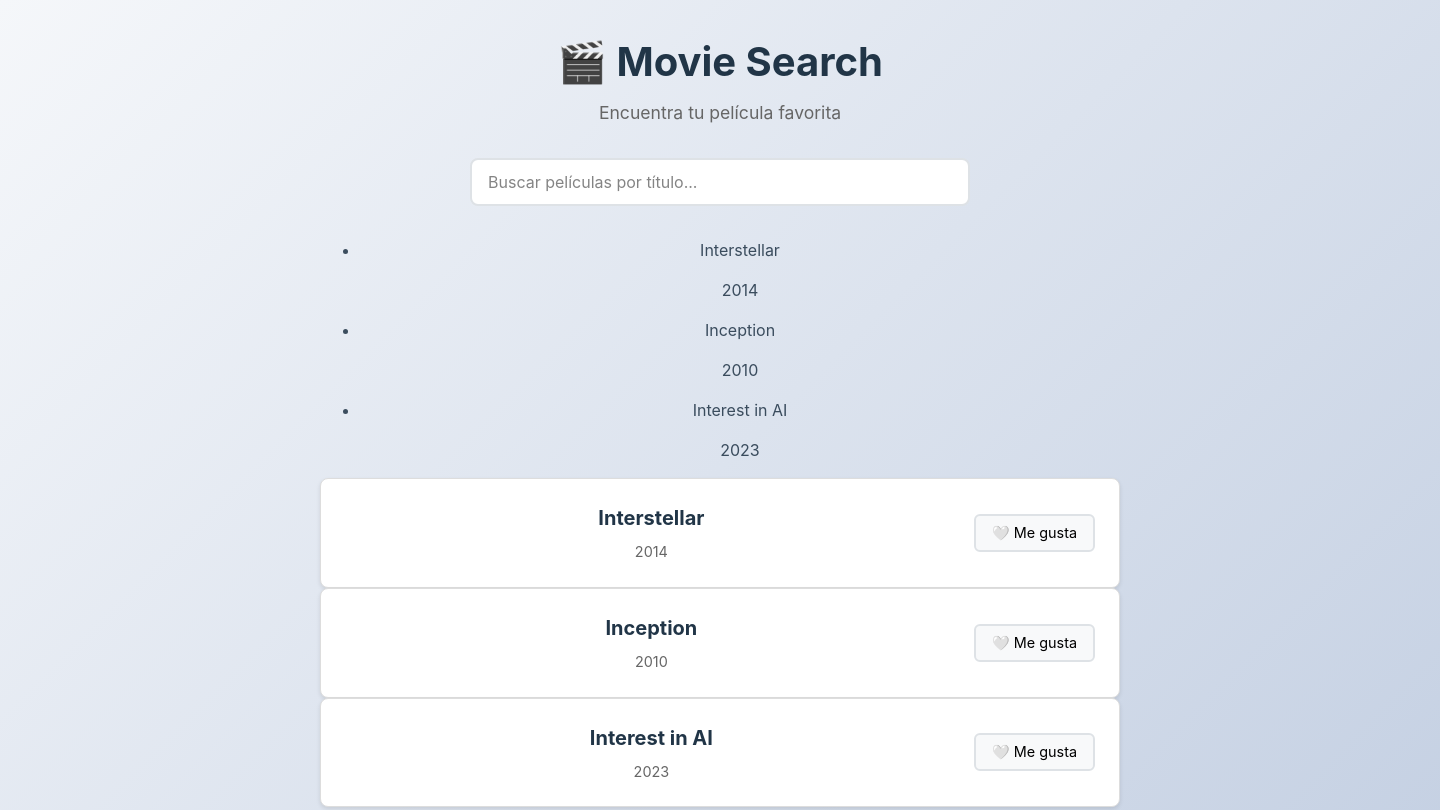
App Component › filtra las películas que coinciden con el término de búsqueda y pueden aparecer varias veces
Type "inter" into the field with placeholder "Buscar películas por título..." at (720, 182), box [470,158,970,206]
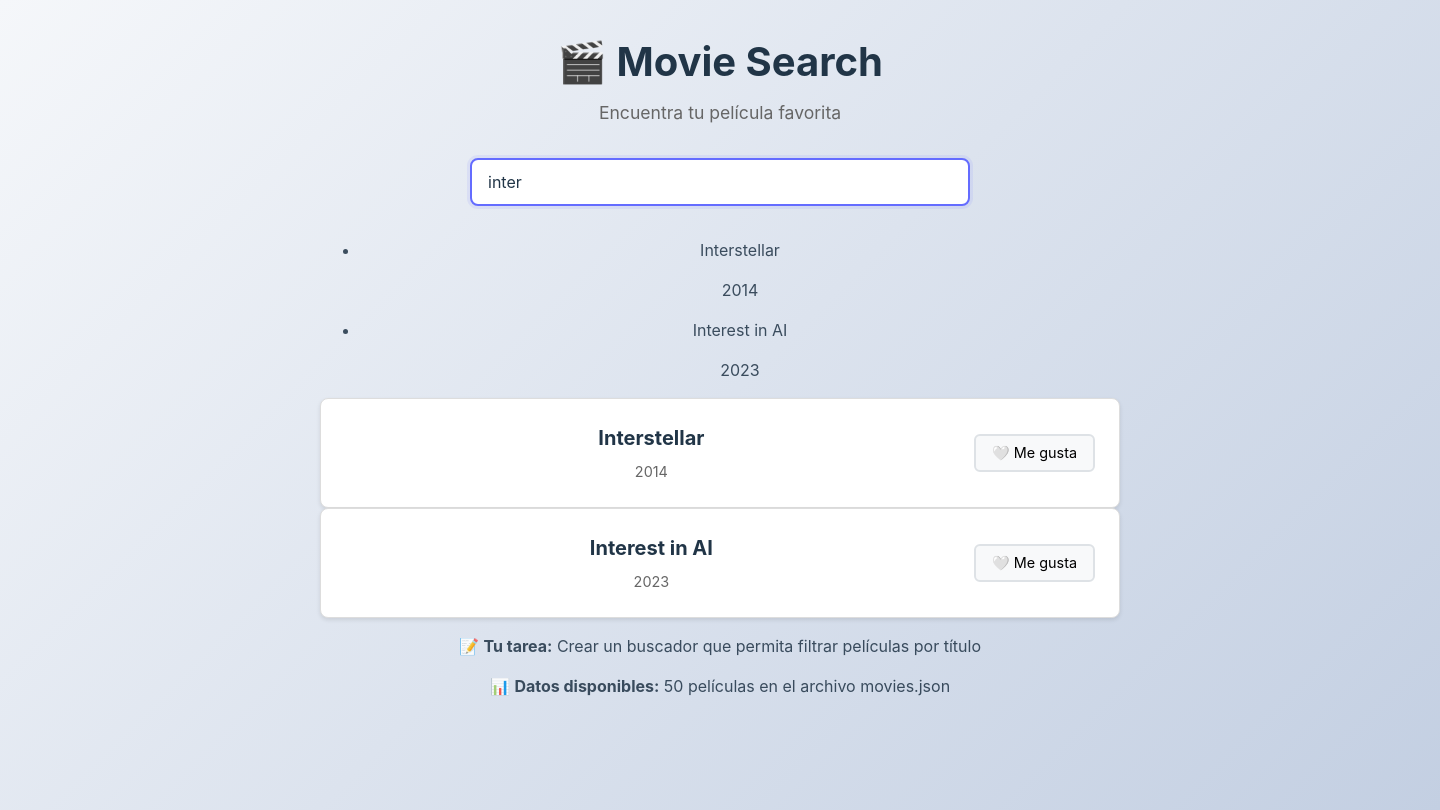
expect the text "Inception" is gone: met
